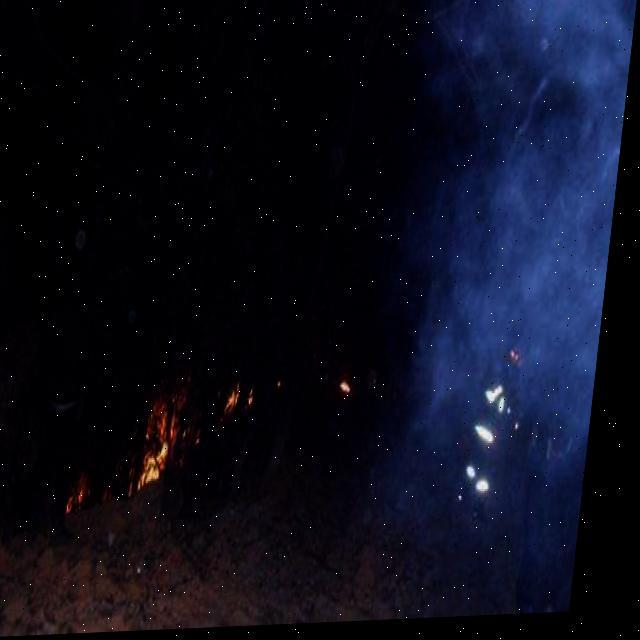Fire: (145, 369, 196, 487), (75, 458, 123, 518), (226, 374, 272, 431)
